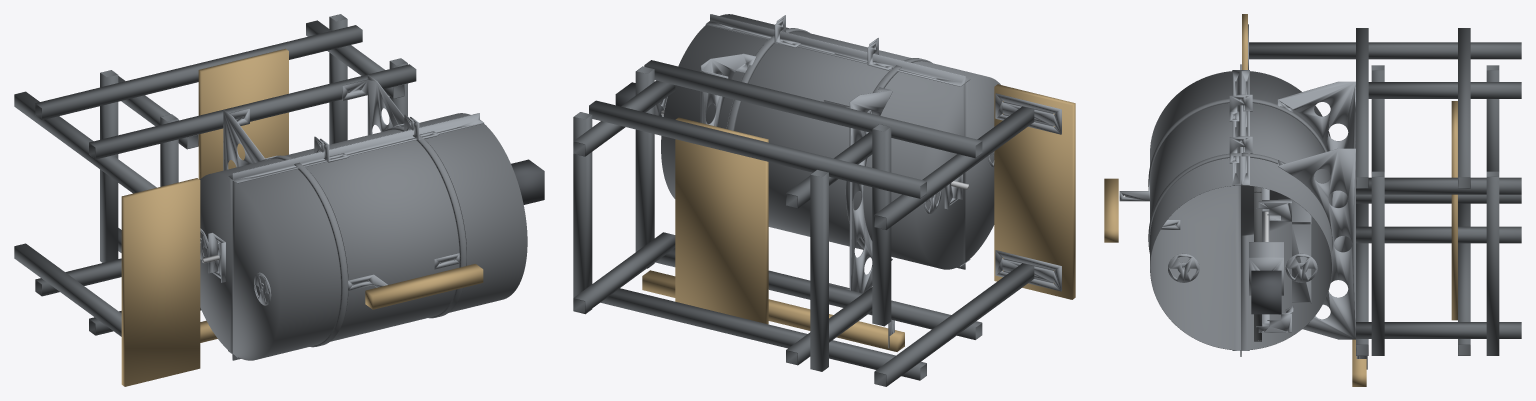
Rendered from parrilla_tambor.glb.
The picture shows the model from 3 angles, left to right: view 1: azimuth 30°, elevation 25°; view 2: azimuth 150°, elevation 25°; view 3: azimuth 270°, elevation 25°; orthographic projection. The views are drawn at different scales.
Parts seen in each view (by area): view 1: TAM-TAPA, MAD-MESA, MAD-ESTANTE, TAM-CUBA, TUB-LARGUERO_+1_500, TUB-LARGUERO_+1_180, PER-CANTO_3, TUB-POSTE_+1, TUB-TRAVESANO_-1_90, TUB-POSTE_-1, MAD-ASA, CUN-CUNA_2 (+8 smaller); view 2: TAM-CUBA, MAD-ESTANTE, MAD-MESA, TUB-LARGUERO_+1_180, TUB-LARGUERO_+1_500, TAM-TAPA, TUB-LARGUERO_-1_180, TUB-POSTE_-1, TUB-TRAVESANO_-1_90, TUB-POSTE_+1, TUB-TRAVESANO_-1_450, TUB-TRAVESANO_+1_90 (+12 smaller); view 3: TAM-TAPA, TAM-CUBA, CUN-CUNA_2, TUB-POSTE_+1, CUN-CUNA_1, TUB-TRAVESANO_+1_450, TUB-TRAVESANO_+1_90, TUB-PATA_-1-1, TUB-PATA_-1+1, TUB-PATA_+1-1, TUB-PATA_+1+1, TUB-LARGUERO_+1_500 (+19 smaller).
Part boxes in pixels (x1,y1,x2,y2): TAM-TAPA: (232, 123, 527, 360); MAD-MESA: (121, 178, 200, 386); MAD-ESTANTE: (198, 48, 288, 179); TAM-CUBA: (200, 113, 470, 353); TUB-LARGUERO_+1_500: (89, 64, 416, 159); TUB-LARGUERO_+1_180: (35, 25, 362, 120); PER-CANTO_3: (232, 113, 483, 183); TUB-POSTE_+1: (14, 91, 156, 193); TUB-TRAVESANO_-1_90: (100, 70, 118, 262); TUB-POSTE_-1: (14, 243, 121, 336); MAD-ASA: (365, 264, 483, 309); CUN-CUNA_2: (342, 75, 404, 135); TAM-CUBA: (661, 25, 965, 269); MAD-ESTANTE: (675, 117, 768, 324); MAD-MESA: (994, 84, 1075, 299); TUB-LARGUERO_+1_180: (589, 100, 926, 198); TUB-LARGUERO_+1_500: (644, 60, 982, 158); TAM-TAPA: (720, 14, 1000, 262); TUB-LARGUERO_-1_180: (600, 288, 926, 380); TUB-POSTE_-1: (874, 263, 1034, 386); TUB-TRAVESANO_-1_90: (810, 169, 828, 371); TUB-POSTE_+1: (874, 106, 1034, 229); TUB-TRAVESANO_-1_450: (872, 124, 891, 326); TUB-TRAVESANO_+1_90: (573, 112, 592, 314); TAM-TAPA: (1148, 71, 1240, 350); TAM-CUBA: (1241, 71, 1333, 350); CUN-CUNA_2: (1278, 141, 1355, 339); TUB-POSTE_+1: (1249, 42, 1521, 59); CUN-CUNA_1: (1277, 81, 1355, 252); TUB-TRAVESANO_+1_450: (1371, 171, 1384, 355); TUB-TRAVESANO_+1_90: (1486, 171, 1499, 355); TUB-PATA_-1-1: (1356, 226, 1521, 243); TUB-PATA_-1+1: (1368, 82, 1521, 98); TUB-PATA_+1-1: (1356, 322, 1521, 338); TUB-PATA_+1+1: (1356, 177, 1521, 194); TUB-LARGUERO_+1_500: (1356, 28, 1368, 188).
Size of the model in its own units: 1464 by 756 by 1309.
